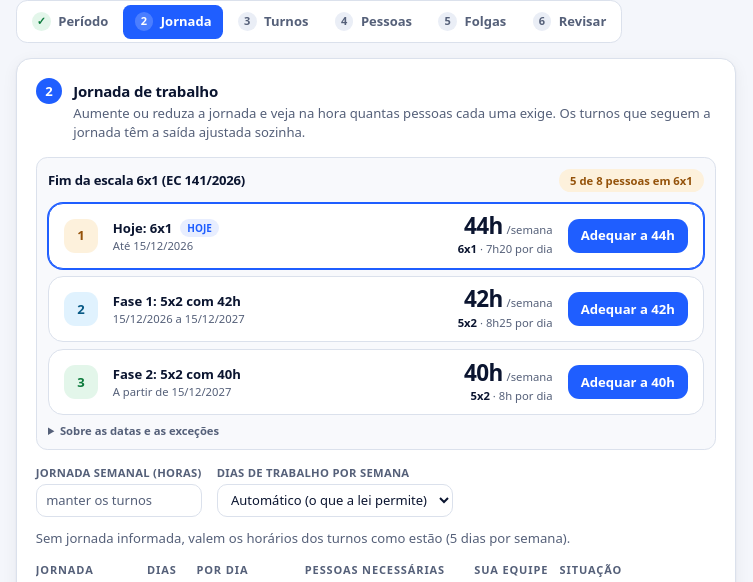
Gerar escala: fim da 6x1 › mostra as fases, quantos estão em 6x1 e preenche jornada e dias ao adequar
Check: the text "5 de 8 pessoas em 6x1" is shown, box [559,169,704,192]
Check: the text "hoje" is shown, box [180,219,219,237]
Click the button with aria-label "Adequar à Fase 2: 5x2 com 40h".
click(628, 382)  # box [568,365,688,399]
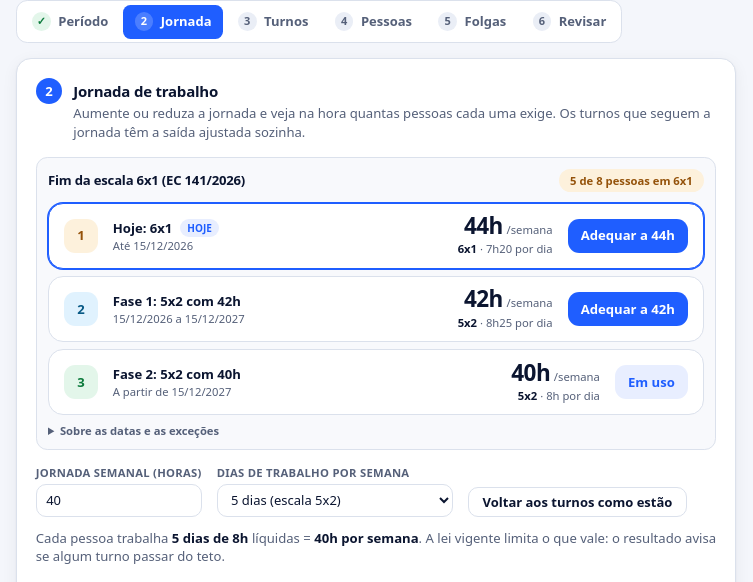
Check: the number field labelled "Jornada semanal (horas)" holds "40", box [36,484,202,517]
Check: the dropdown labelled "Dias de trabalho por semana" shows "5 dias (escala 5x2)", box [217,484,454,517]
